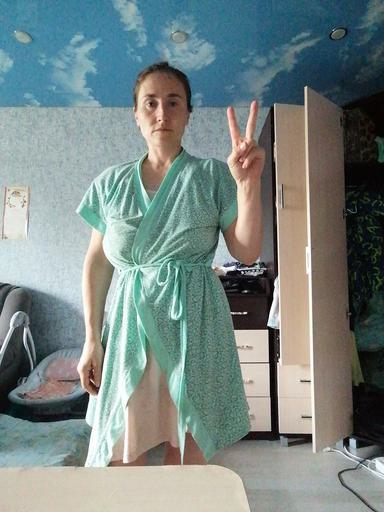peace: (225, 99, 267, 185)
